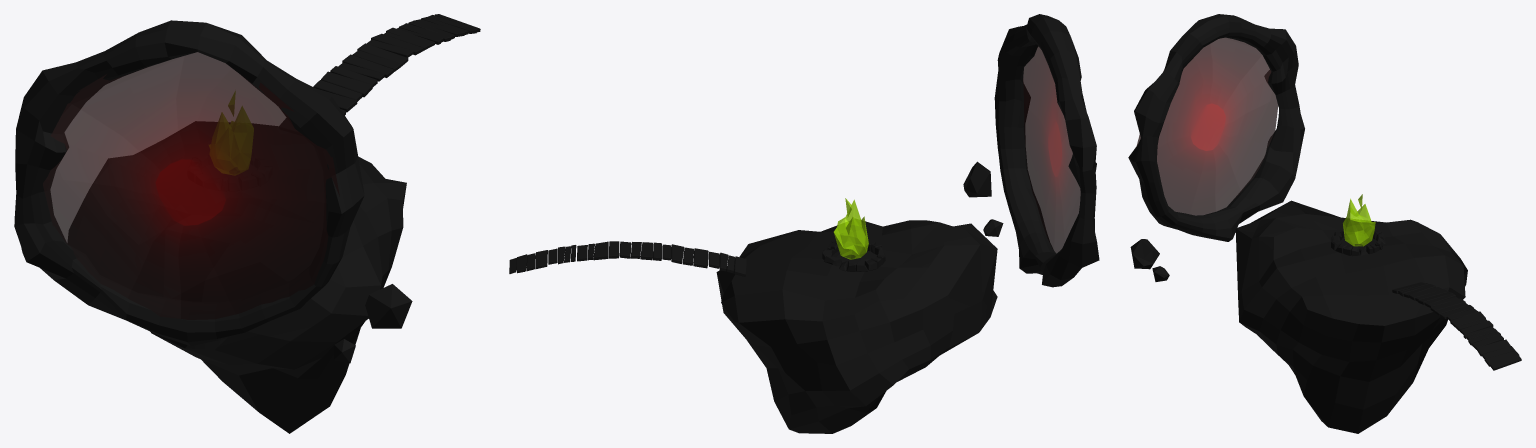
File: wl_island.glb
The picture shows the model from 3 angles, left to right: view 1: azimuth 30°, elevation 25°; view 2: azimuth 150°, elevation 25°; view 3: azimuth 270°, elevation 25°; orthographic projection. The views are drawn at different scales.
Visible parts, largest first — view 1: Land, PortalEffect, Portal, GreenFlame; view 2: Land, Portal, PortalEffect, GreenFlame; view 3: Land, PortalEffect, Portal, GreenFlame.
Part boxes in pixels (box(x1,y1,x2,y2)): Land: box(67, 14, 480, 433); PortalEffect: box(43, 52, 339, 319); Portal: box(14, 20, 412, 363); GreenFlame: box(209, 93, 253, 174); Land: box(509, 220, 997, 433); Portal: box(963, 14, 1099, 287); PortalEffect: box(1023, 46, 1080, 253); GreenFlame: box(833, 198, 868, 259); Land: box(1235, 200, 1521, 433); PortalEffect: box(1136, 37, 1278, 215); Portal: box(1128, 14, 1304, 281); GreenFlame: box(1343, 194, 1375, 246).
Size of the model in its own units: 13.54 by 10.77 by 11.13.
3 materials, 1 textured.
